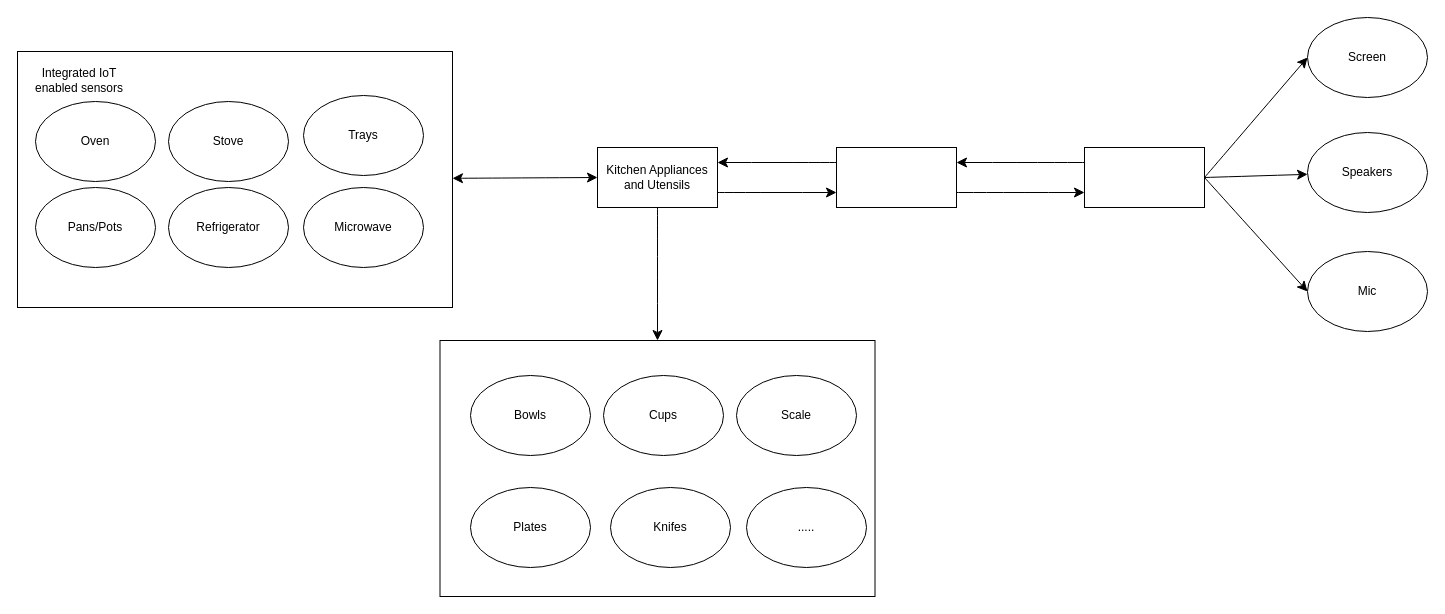
Some shapes in this 1445 by 614 pixel diagram are drawn without their labels. The shapes that lost their labels are listed below. From the top down, each one's centre as x and y in pixels, then its label:
At pixel 896 177: "WiFi / Router".
At pixel 1144 177: "ChefMate".
